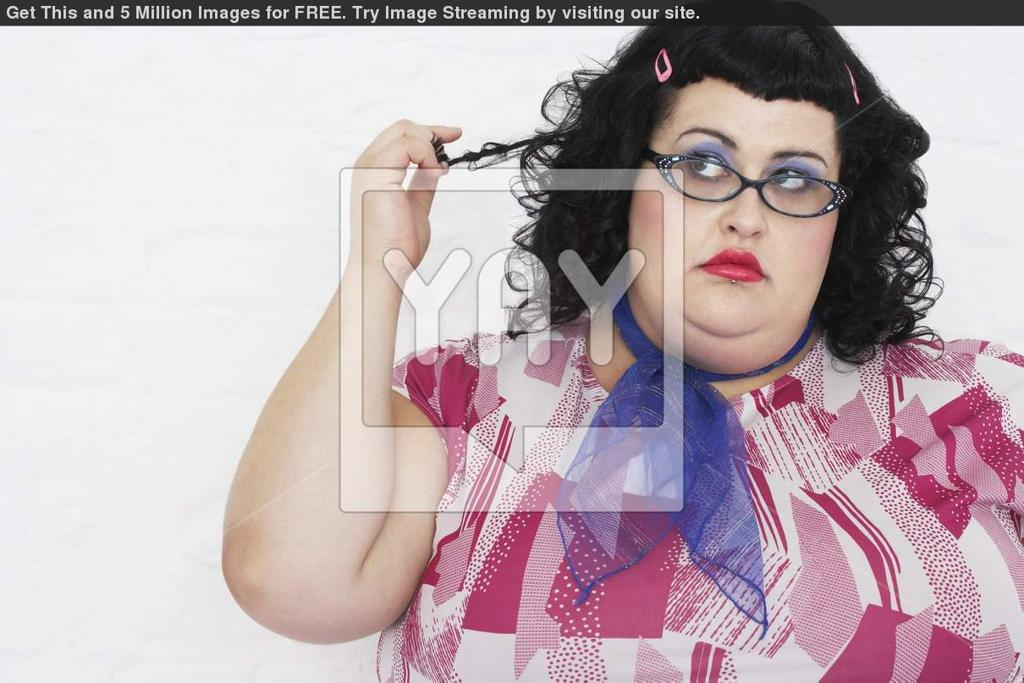face: (628, 84, 844, 334)
